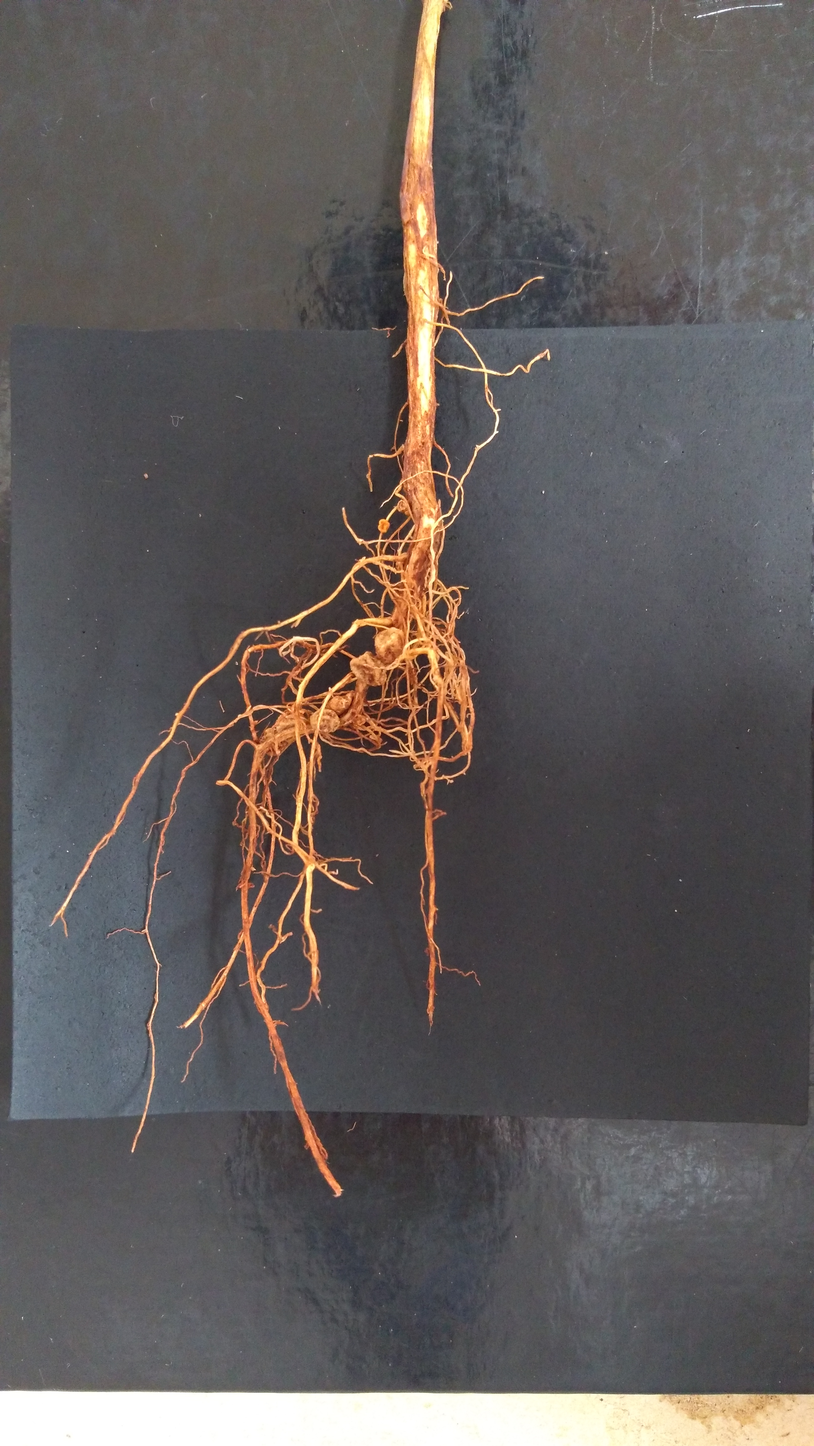nodule: (350, 651, 387, 687), (374, 627, 406, 664), (275, 707, 307, 743), (260, 725, 289, 756), (309, 708, 341, 733), (325, 691, 354, 717), (396, 552, 408, 569), (377, 518, 390, 533), (352, 714, 367, 727), (397, 499, 409, 513), (250, 866, 257, 872), (405, 509, 410, 516)
